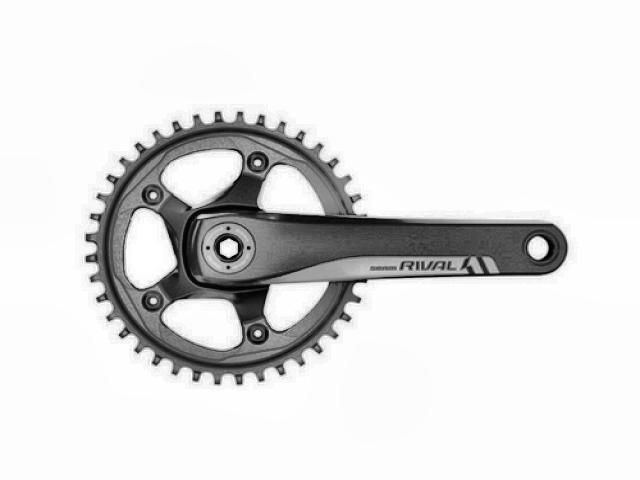cranks_set: (79, 109, 570, 390)
